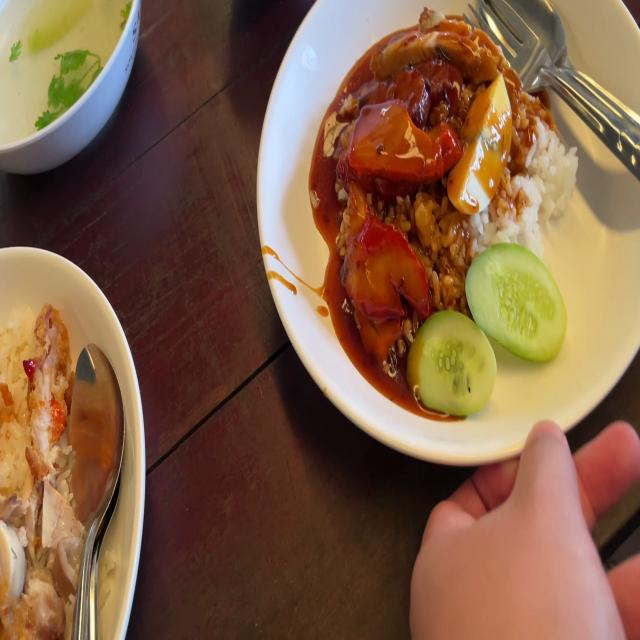boiled_chicken: (0, 486, 86, 640)
boiled_egg: (448, 76, 516, 210)
chainese_sausage: (362, 55, 463, 124)
chicken_rice: (0, 304, 86, 640)
crispy_pork: (380, 1, 519, 88)
cucumber: (462, 238, 569, 364), (411, 310, 498, 410)
fried_chicken: (26, 304, 70, 484)
red_pork: (339, 210, 432, 350), (350, 101, 457, 182)
red_pork_and_crispy_pork: (325, 7, 581, 421)
